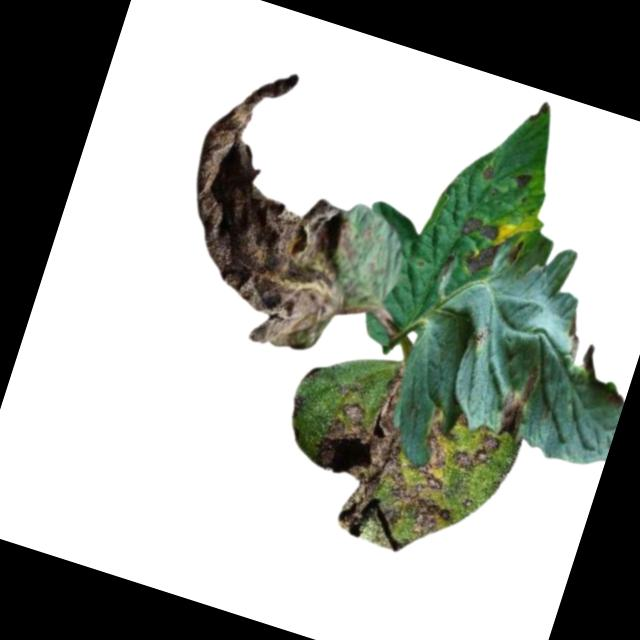Early_blight: (146, 48, 408, 363), (293, 347, 527, 577), (491, 357, 543, 439), (557, 309, 593, 366), (459, 237, 502, 281), (457, 210, 504, 246), (477, 158, 498, 182), (510, 169, 534, 190)
